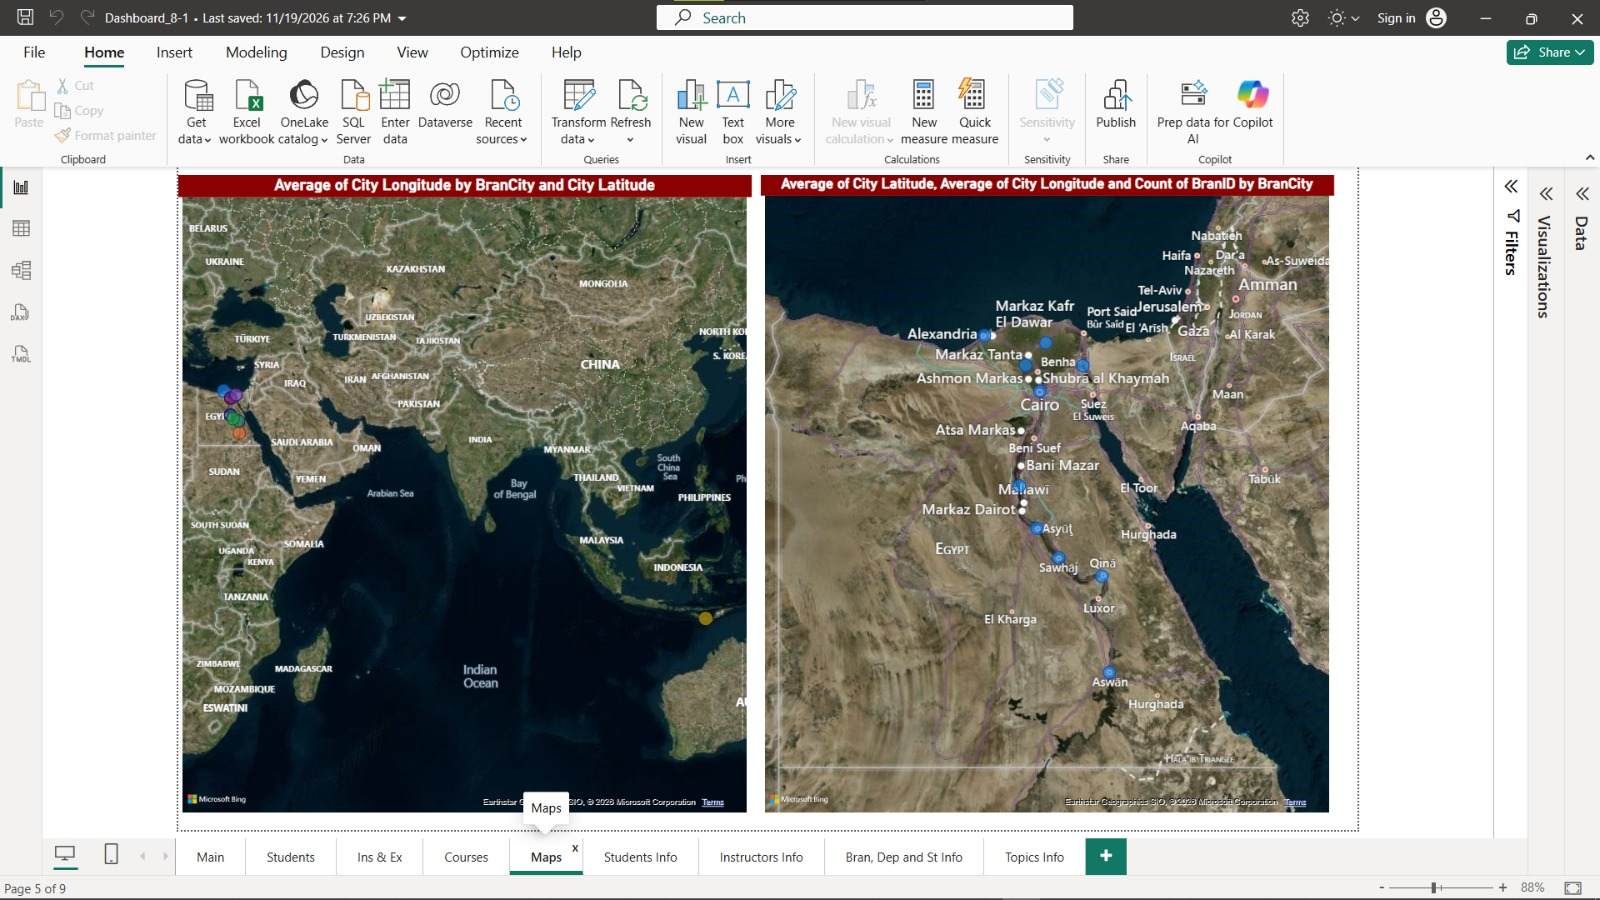

Layout of this report page (visuals, bound fields, positions):
{"tool":"powerbi","page":{"name":"Maps","canvas":[1280,720],"ordinal":4},"visuals":[{"type":"map","fields":{"Category":["Location Branch.BranCity"],"Series":["Location Branch.City Latitude"],"Y":["Avg(Location Branch.City Longitude)"]},"box":[0,9.3,622,697],"z":0},{"type":"map","fields":{"Category":["Location Branch.BranCity"],"Size":["CountNonNull(Location DepBranch.BranID)"],"X":["Avg(Location Branch.City Longitude)"],"Y":["Avg(Location Branch.City Latitude)"]},"box":[632,9,622,697],"z":1000}]}

Visuals, with their boxes on the page's 1280x720 design canvas (x1, y1, x2, y2). These are canvas units, not pixel positions in the 1600x900 screenshot, which may show the page scaled, cropped or inside an application window:
map - Location Branch.BranCity x Location Branch.City Latitude: [left=0, top=9, right=622, bottom=706]
map - Location Branch.BranCity x CountNonNull(Location DepBranch.BranID): [left=632, top=9, right=1254, bottom=706]
